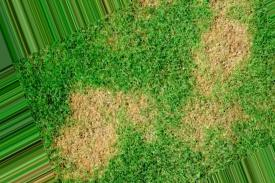patch: (73, 123, 114, 153), (215, 37, 238, 57), (198, 110, 219, 124), (84, 100, 105, 112), (128, 107, 143, 122)
